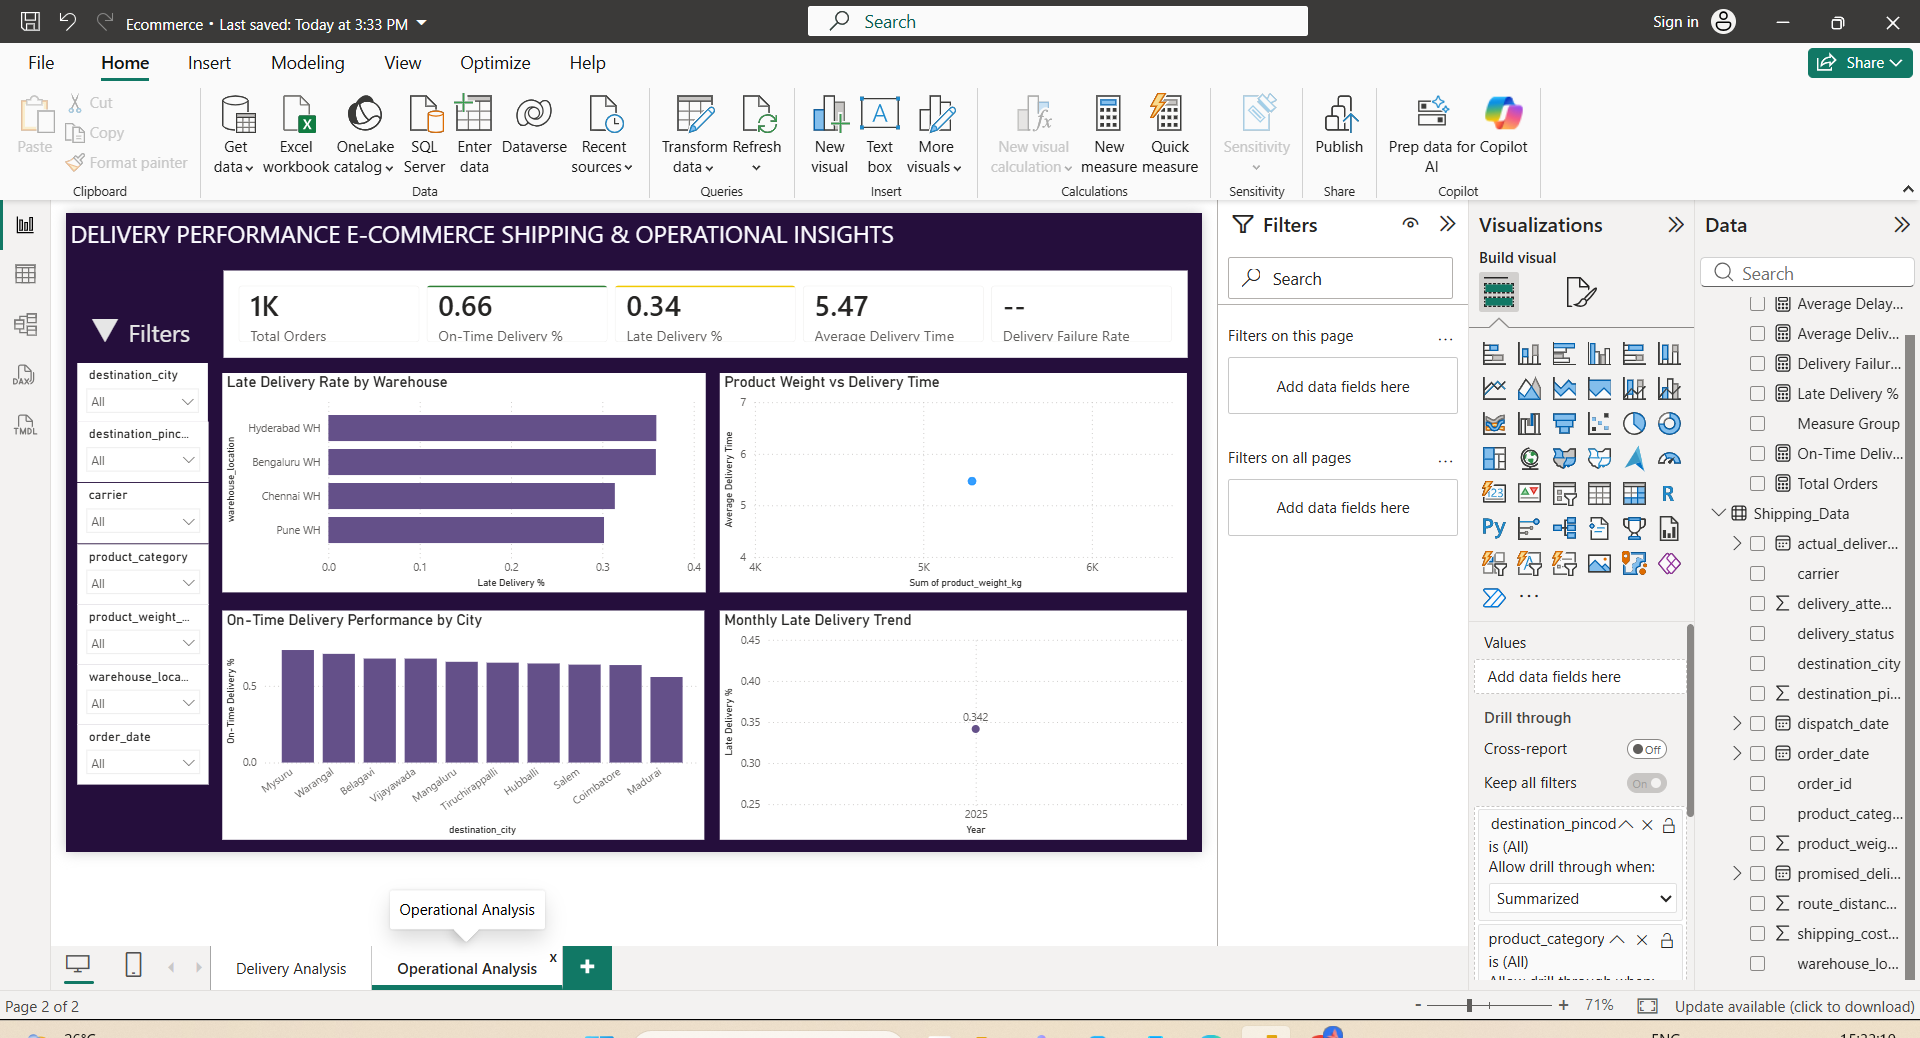

This screenshot's page, from the dashboard's own definition file:
{"tool":"powerbi","page":{"name":"Operational Analysis","canvas":[1280,720],"ordinal":1},"visuals":[{"type":"textbox","box":[0,0,1023.9,64.8],"z":0},{"type":"cardVisual","fields":{"Data":["Key Measures.Total Orders","Key Measures.On-Time Delivery %","Key Measures.Late Delivery %","Key Measures.Average Delivery Time","Key Measures.Delivery Failure Rate"]},"box":[176.9,64.6,1086.2,98.5],"z":1000},{"type":"clusteredBarChart","title":"Late Delivery Rate by Warehouse","fields":{"Category":["Shipping_Data.warehouse_location"],"Y":["Key Measures.Late Delivery %"]},"box":[176.4,180.6,544.4,247.2],"z":2000},{"type":"scatterChart","title":"Product Weight vs Delivery Time","fields":{"X":["Avg(Shipping_Data.product_weight_kg)"],"Y":["Key Measures.Average Delivery Time"]},"box":[736.1,180.6,526.4,247.2],"z":3000},{"type":"clusteredColumnChart","title":"On-Time Delivery Performance by City","fields":{"Category":["Shipping_Data.destination_city"],"Y":["Key Measures.On-Time Delivery %"]},"box":[176.4,447.2,543.1,258.3],"z":4000},{"type":"lineChart","title":"Monthly Late Delivery Trend","fields":{"Category":["Shipping_Data.order_date.Variation.Date Hierarchy.Year","Shipping_Data.order_date.Variation.Date Hierarchy.Month"],"Y":["Key Measures.Late Delivery %"]},"box":[736.1,447.2,526.4,258.3],"z":5000},{"type":"slicer","fields":{"Values":["Shipping_Data.destination_city"]},"box":[12.3,169.1,146.9,66.7],"z":6000},{"type":"slicer","fields":{"Values":["Shipping_Data.destination_pincode"]},"box":[12.3,235.8,148.1,67.9],"z":7000},{"type":"slicer","fields":{"Values":["Shipping_Data.carrier"]},"box":[12.3,303.7,148.1,67.9],"z":8000},{"type":"slicer","fields":{"Values":["Shipping_Data.product_category"]},"box":[12.3,372.8,148.1,67.9],"z":9000},{"type":"slicer","fields":{"Values":["Shipping_Data.product_weight_kg"]},"box":[12.3,440.7,148.1,67.9],"z":10000},{"type":"slicer","fields":{"Values":["Shipping_Data.warehouse_location"]},"box":[12.3,508.6,148.1,67.9],"z":11000},{"type":"slicer","fields":{"Values":["Shipping_Data.order_date"]},"box":[12.3,576.5,148.1,67.9],"z":12000},{"type":"textbox","box":[12.3,64.2,146.9,98.8],"z":13000}]}

Visuals, with their boxes on the page's 1280x720 design canvas (x1, y1, x2, y2). These are canvas units, not pixel positions in the 1920x1038 screenshot, which may show the page scaled, cropped or inside an application window:
textbox: (0, 0, 1024, 65)
cardVisual - Key Measures.Total Orders x Key Measures.On-Time Delivery %: (177, 65, 1263, 163)
"Late Delivery Rate by Warehouse" clusteredBarChart: (176, 181, 721, 428)
"Product Weight vs Delivery Time" scatterChart: (736, 181, 1262, 428)
"On-Time Delivery Performance by City" clusteredColumnChart: (176, 447, 720, 706)
"Monthly Late Delivery Trend" lineChart: (736, 447, 1262, 706)
slicer - Shipping_Data.destination_city: (12, 169, 159, 236)
slicer - Shipping_Data.destination_pincode: (12, 236, 160, 304)
slicer - Shipping_Data.carrier: (12, 304, 160, 372)
slicer - Shipping_Data.product_category: (12, 373, 160, 441)
slicer - Shipping_Data.product_weight_kg: (12, 441, 160, 509)
slicer - Shipping_Data.warehouse_location: (12, 509, 160, 576)
slicer - Shipping_Data.order_date: (12, 576, 160, 644)
textbox: (12, 64, 159, 163)
